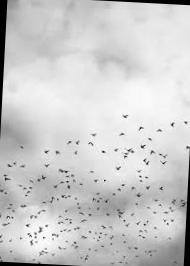bird: (116, 109, 132, 120), (86, 128, 99, 138), (114, 126, 124, 138)
